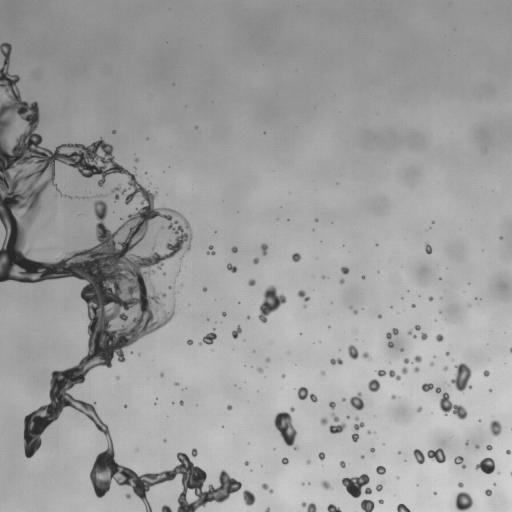droplet: (258, 285, 286, 322), (341, 474, 371, 498), (451, 363, 471, 392), (455, 492, 473, 511), (476, 457, 495, 474), (329, 413, 345, 433), (297, 387, 317, 402), (350, 392, 363, 410), (242, 489, 255, 505), (489, 420, 501, 436), (360, 499, 374, 511), (368, 379, 380, 392), (348, 345, 358, 359), (301, 502, 316, 511), (298, 290, 310, 301), (454, 456, 465, 468), (232, 326, 241, 338), (397, 503, 410, 511), (321, 480, 332, 489), (327, 504, 341, 511), (227, 263, 237, 272), (261, 243, 268, 255), (207, 245, 215, 254), (292, 253, 301, 261), (362, 352, 371, 360), (330, 358, 342, 364), (376, 466, 385, 474), (161, 505, 172, 511), (341, 266, 349, 274), (157, 223, 164, 232), (320, 417, 327, 425), (425, 244, 431, 253), (248, 279, 255, 286), (436, 334, 443, 341), (414, 355, 421, 362), (421, 332, 427, 340), (329, 401, 335, 409), (191, 448, 197, 456), (376, 483, 382, 491), (231, 246, 237, 253), (401, 367, 407, 374), (318, 452, 324, 459), (282, 457, 288, 464), (485, 489, 491, 496), (187, 339, 193, 345), (483, 370, 489, 376), (339, 461, 345, 467), (253, 258, 258, 264), (414, 325, 420, 330), (404, 358, 409, 364), (257, 367, 263, 372), (417, 406, 422, 412), (486, 445, 492, 450), (352, 309, 357, 314), (414, 367, 419, 372), (227, 405, 232, 410), (458, 482, 463, 487), (179, 400, 183, 405), (290, 407, 294, 412), (506, 450, 511, 454), (125, 494, 130, 498), (378, 499, 383, 503), (179, 256, 183, 260), (340, 279, 344, 283), (202, 287, 206, 291), (428, 296, 432, 300), (222, 312, 226, 316), (377, 314, 381, 318), (443, 366, 447, 370), (321, 371, 325, 375), (391, 395, 395, 399), (367, 430, 371, 434), (370, 448, 374, 452), (244, 461, 248, 465), (306, 460, 310, 464), (176, 269, 179, 274), (264, 508, 269, 511), (266, 358, 269, 362), (430, 362, 433, 366), (360, 455, 364, 458), (135, 158, 138, 161), (315, 218, 318, 221), (247, 315, 250, 318), (400, 348, 403, 351), (160, 373, 163, 376), (175, 382, 178, 385), (342, 398, 345, 401), (465, 441, 468, 444), (475, 445, 478, 448), (113, 130, 115, 133), (500, 236, 502, 239), (163, 272, 165, 275), (362, 276, 364, 279), (303, 305, 306, 307), (412, 304, 414, 307), (446, 352, 448, 355), (282, 374, 284, 377), (489, 389, 492, 391), (346, 416, 349, 418), (355, 417, 358, 419), (163, 439, 166, 441), (124, 405, 126, 407), (434, 492, 436, 494)
ligament: (0, 42, 241, 511), (421, 383, 467, 419), (274, 412, 298, 450), (413, 448, 445, 464), (376, 369, 400, 380), (351, 422, 364, 442), (199, 331, 216, 345), (386, 328, 398, 347), (262, 483, 273, 493), (168, 285, 176, 294), (407, 330, 416, 338), (66, 195, 71, 198), (81, 196, 87, 198), (510, 348, 511, 352)
